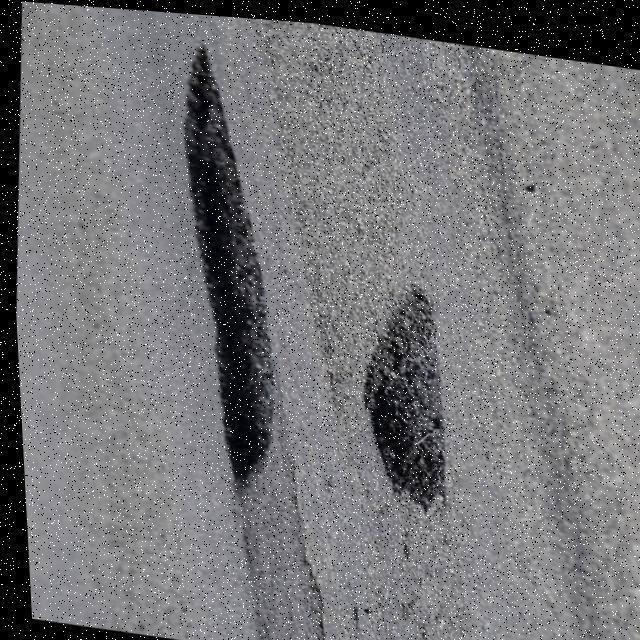Pothole: (185, 48, 274, 479), (364, 285, 445, 509)
